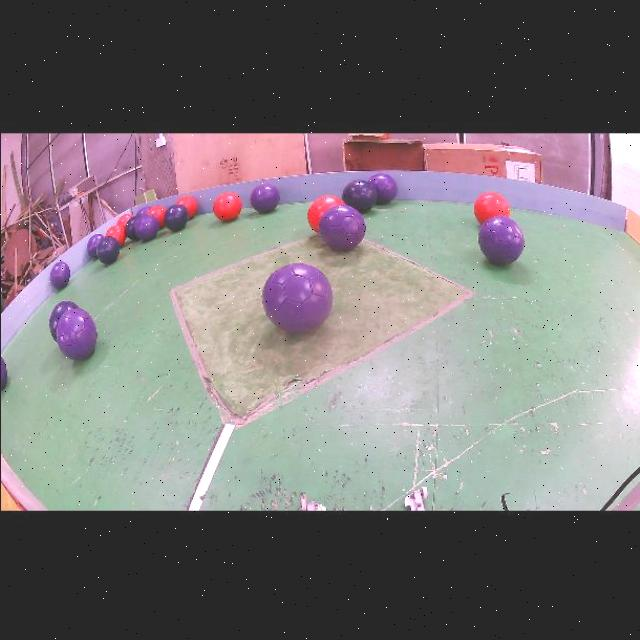B: (341, 178, 377, 212), (49, 300, 78, 341), (163, 203, 188, 231), (96, 235, 120, 264), (124, 215, 138, 240)
P: (261, 262, 332, 332), (478, 215, 524, 264), (318, 203, 365, 250), (55, 307, 96, 359), (367, 173, 396, 203), (249, 184, 280, 212), (134, 212, 159, 240), (49, 261, 70, 288), (86, 233, 103, 258), (0, 355, 7, 389), (135, 206, 150, 216)
R: (307, 194, 344, 231), (474, 191, 509, 223), (211, 191, 242, 220), (175, 194, 197, 217), (104, 224, 125, 245), (146, 205, 166, 227), (116, 212, 133, 227)
